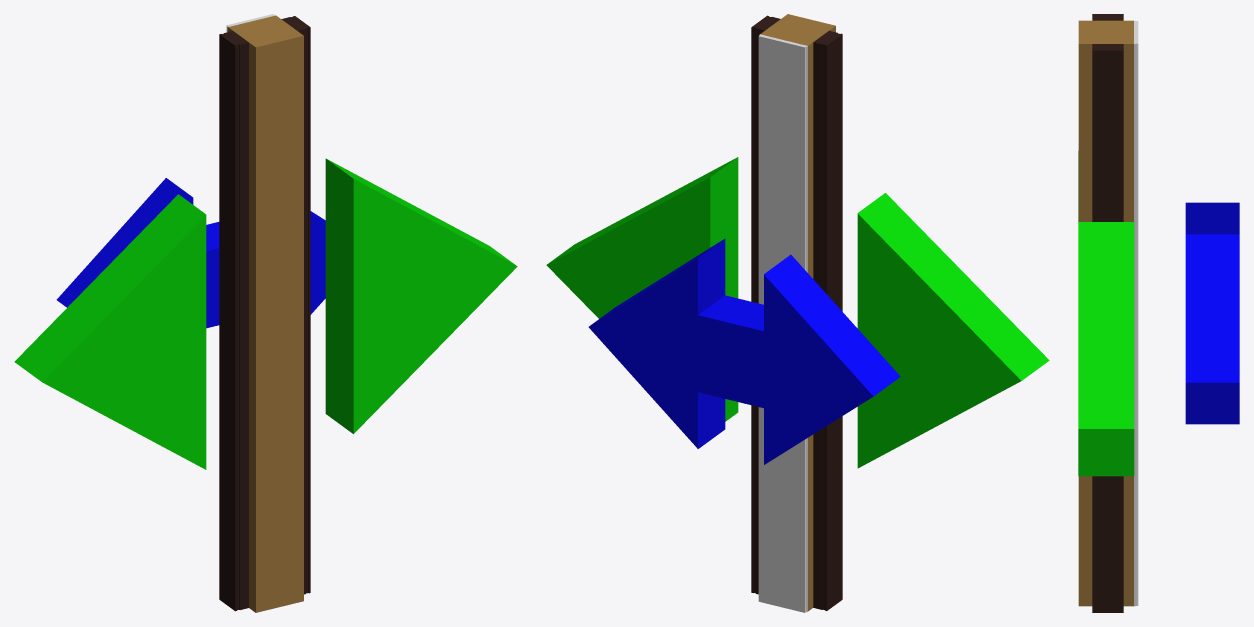
File: stud35.FBX
The picture shows the model from 3 angles, left to right: view 1: azimuth 30°, elevation 25°; view 2: azimuth 150°, elevation 25°; view 3: azimuth 270°, elevation 25°; orthographic projection.
Parts seen in each view (by area): view 1: 4x4stud, affordance_connect_left, affordance_connect_right, FastTrack-v (×2), affordance_trans_horiz; view 2: affordance_trans_horiz, affordance_connect_right, ScreenTight-35-v, FastTrack-v (×2), affordance_connect_left, 4x4stud; view 3: affordance_connect_left, affordance_trans_horiz, FastTrack-v, 4x4stud, ScreenTight-35-v.
Part boxes in pixels (x1=…): 4x4stud: x1=228, y1=15, x2=303, y2=612; affordance_connect_left: x1=325, y1=158, x2=517, y2=433; affordance_connect_right: x1=14, y1=194, x2=206, y2=469; FastTrack-v (×2): x1=219, y1=16, x2=310, y2=611; affordance_trans_horiz: x1=56, y1=178, x2=325, y2=328; affordance_trans_horiz: x1=588, y1=238, x2=900, y2=464; affordance_connect_right: x1=857, y1=193, x2=1049, y2=468; ScreenTight-35-v: x1=758, y1=34, x2=807, y2=612; FastTrack-v (×2): x1=751, y1=15, x2=842, y2=610; affordance_connect_left: x1=546, y1=157, x2=738, y2=421; 4x4stud: x1=760, y1=14, x2=835, y2=611; affordance_connect_left: x1=1078, y1=222, x2=1134, y2=476; affordance_trans_horiz: x1=1185, y1=202, x2=1239, y2=424; FastTrack-v: x1=1092, y1=44, x2=1123, y2=612; 4x4stud: x1=1078, y1=20, x2=1133, y2=606; ScreenTight-35-v: x1=1134, y1=20, x2=1138, y2=606.
Bounding box in the file's own units: 0.8797 × 1 × 0.2597.
